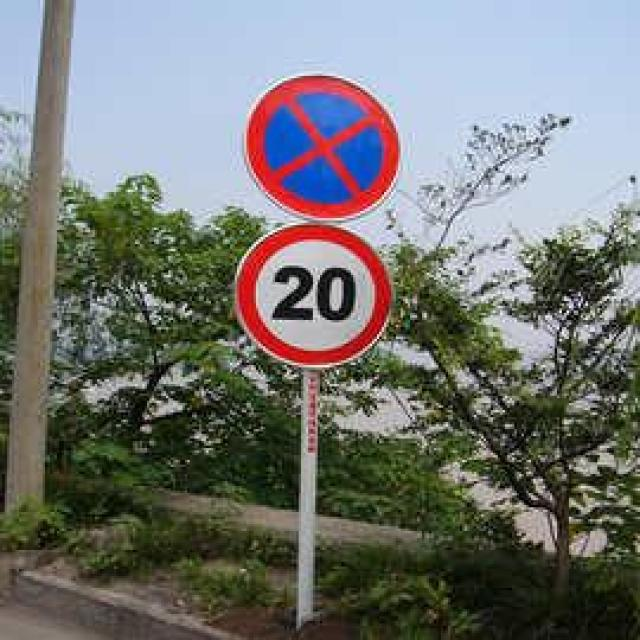speed limit 20: (235, 222, 393, 367)
